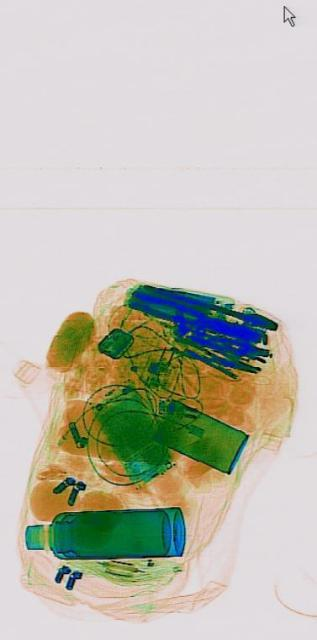Pliers: (127, 286, 260, 348)
